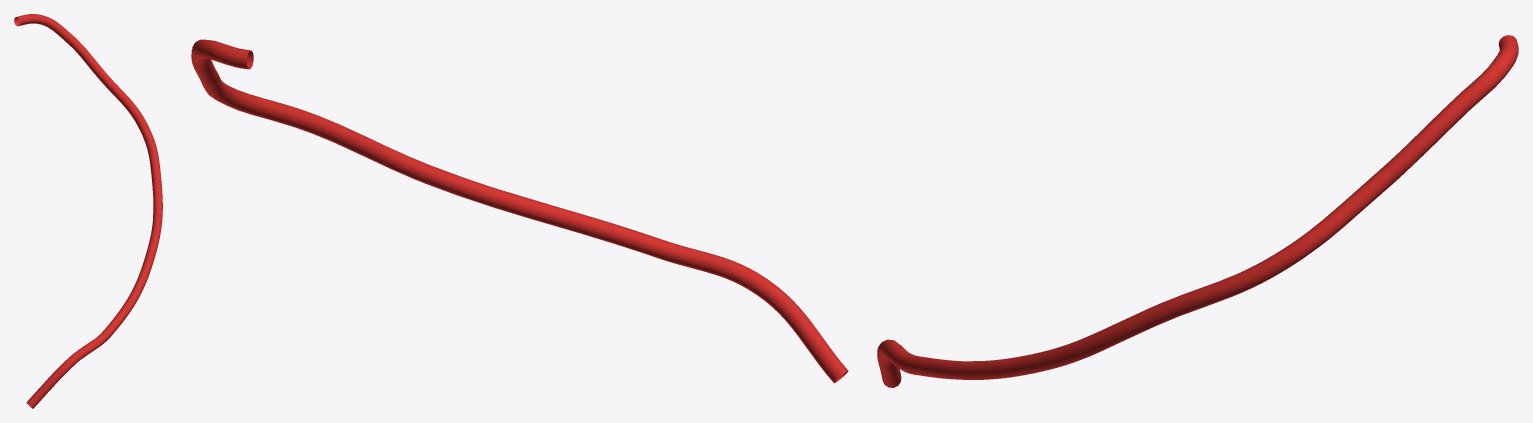
The model's file is circulatorio-first-posterior-intercostal-artery-l.glb.
The picture shows the model from 3 angles, left to right: view 1: azimuth 30°, elevation 25°; view 2: azimuth 150°, elevation 25°; view 3: azimuth 270°, elevation 25°; orthographic projection. The views are drawn at different scales.
Visible parts, largest first — view 1: First posterior intercostal artery.l; view 2: First posterior intercostal artery.l; view 3: First posterior intercostal artery.l.
Part boxes in pixels (box(x1,y1,x2,y2)): First posterior intercostal artery.l: box(14, 14, 162, 408); First posterior intercostal artery.l: box(191, 39, 848, 383); First posterior intercostal artery.l: box(877, 35, 1518, 387).
Size of the model in its own units: 0.052 by 0.0563 by 0.0669.
